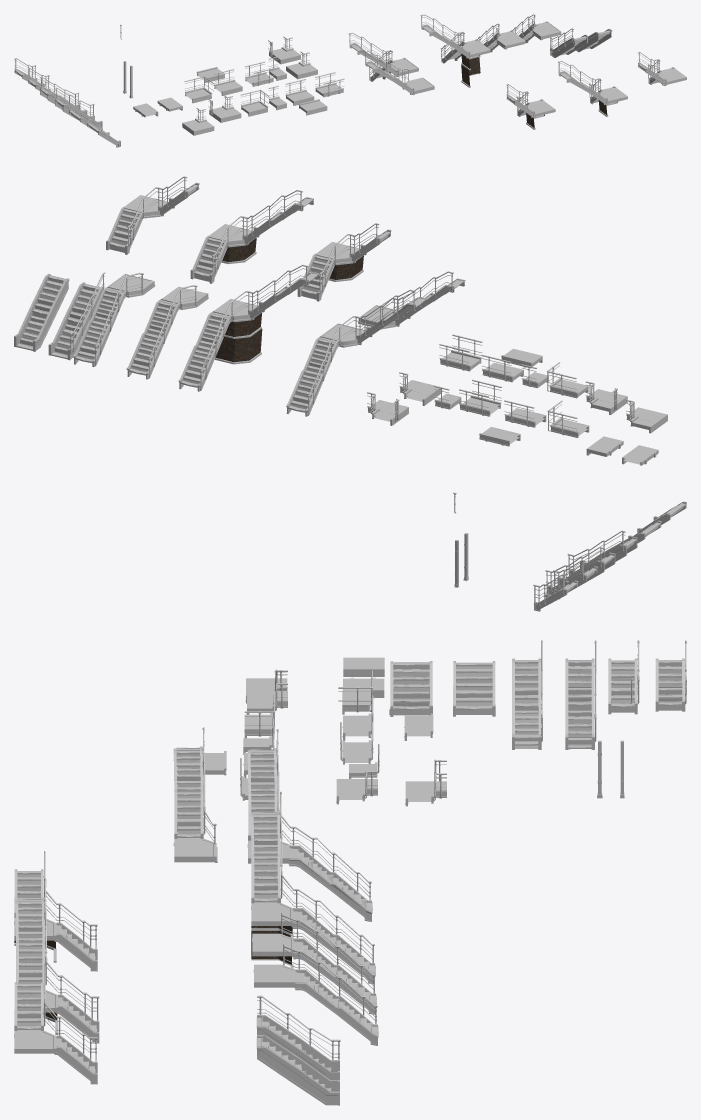
Rendered from PRISON_master_C.fbx.
3 views of the same model, one above another, from view 1: azimuth 30°, elevation 25°; view 2: azimuth 150°, elevation 25°; view 3: azimuth 270°, elevation 25° (orthographic). The views are drawn at different scales.
Parts seen in each view (by area): view 1: prison_stiars_upperCells_D, prison_stiars_upperCells_F, prison_stiars_upperCells_E, prison_stiars_upperCells_B, prison_stiars_upperCells_A, prison_stiars_upperCells_Aclean, prison_stiars_upperCells_C1, prison_stiars_upperCells_C2, prison_metalStairs_floorConnection, prison_metalStairs_c2, prison_balconyWalkway_a_narrow90, prison_balconyWalkway_grates_pass_a (+19 smaller); view 2: prison_stiars_upperCells_D, prison_stiars_upperCells_E, prison_stiars_upperCells_F, prison_stiars_upperCells_A, prison_stiars_upperCells_C1, prison_stiars_upperCells_C2, prison_stiars_upperCells_Aclean, prison_metalStairs_floorConnectionCLEAN, prison_metalStairs_floorConnection, prison_stiars_upperCells_B, prison_metalStairs_c, prison_balconyWalkway_pass_b (+11 smaller); view 3: prison_stiars_upperCells_D, prison_stiars_upperCells_E, prison_stiars_upperCells_F, prison_stiars_upperCells_B, prison_stiars_upperCells_Aclean, prison_stiars_upperCells_C1, prison_stiars_upperCells_C2, prison_metalStairs_c, prison_metalStairs_c2, prison_stiars_upperCells_A, prison_metalStairs_floorConnection, prison_metalStairs_floorConnectionCLEAN (+12 smaller).
Boxes of the visible parts, x1,y1,x2,y2 form: prison_stiars_upperCells_D: (420,14,490,87); prison_stiars_upperCells_F: (558,61,627,116); prison_stiars_upperCells_E: (349,32,418,81); prison_stiars_upperCells_B: (364,51,434,95); prison_stiars_upperCells_A: (506,84,555,129); prison_stiars_upperCells_Aclean: (637,52,686,85); prison_stiars_upperCells_C1: (511,14,561,42); prison_stiars_upperCells_C2: (476,23,525,52); prison_metalStairs_floorConnection: (550,28,588,57); prison_metalStairs_c2: (55,88,102,127); prison_balconyWalkway_a_narrow90: (208,95,241,122); prison_balconyWalkway_grates_pass_a: (268,36,300,64); prison_stiars_upperCells_D: (178,265,319,391); prison_stiars_upperCells_E: (286,289,426,416); prison_stiars_upperCells_F: (190,190,313,283); prison_stiars_upperCells_A: (297,223,391,301); prison_stiars_upperCells_C1: (73,272,155,366); prison_stiars_upperCells_C2: (126,285,208,379); prison_stiars_upperCells_Aclean: (106,176,199,254); prison_metalStairs_floorConnectionCLEAN: (14,273,69,351); prison_metalStairs_floorConnection: (48,272,105,360); prison_stiars_upperCells_B: (358,271,465,329); prison_metalStairs_c: (545,547,615,594); prison_balconyWalkway_pass_b: (439,334,482,371); prison_stiars_upperCells_D: (250,791,375,984); prison_stiars_upperCells_E: (247,729,372,921); prison_stiars_upperCells_F: (15,878,99,1043); prison_stiars_upperCells_B: (173,727,217,862); prison_stiars_upperCells_Aclean: (14,964,97,1084); prison_stiars_upperCells_C1: (253,943,378,1045); prison_stiars_upperCells_C2: (252,912,376,1014); prison_metalStairs_c: (565,640,596,749); prison_metalStairs_c2: (512,640,542,749); prison_stiars_upperCells_A: (14,851,97,971); prison_metalStairs_floorConnection: (256,995,340,1080); prison_metalStairs_floorConnectionCLEAN: (256,1035,339,1105).
Size of the model in its own units: 47.56 by 9.46 by 32.62.
